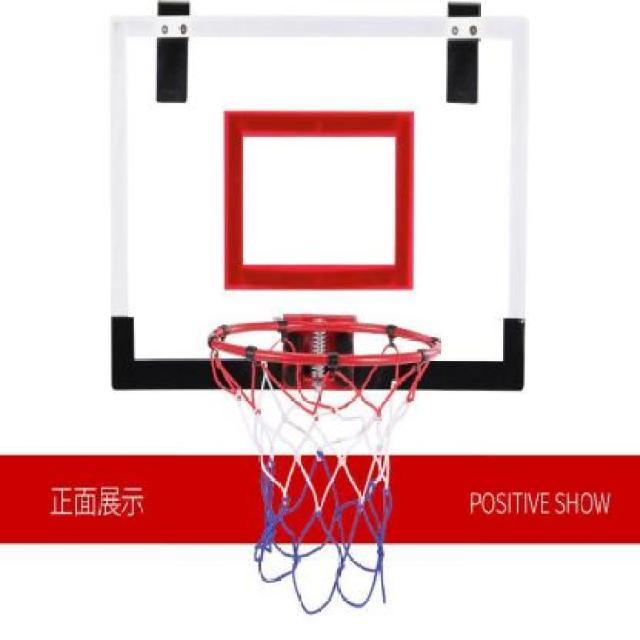rim: (206, 318, 442, 610)
